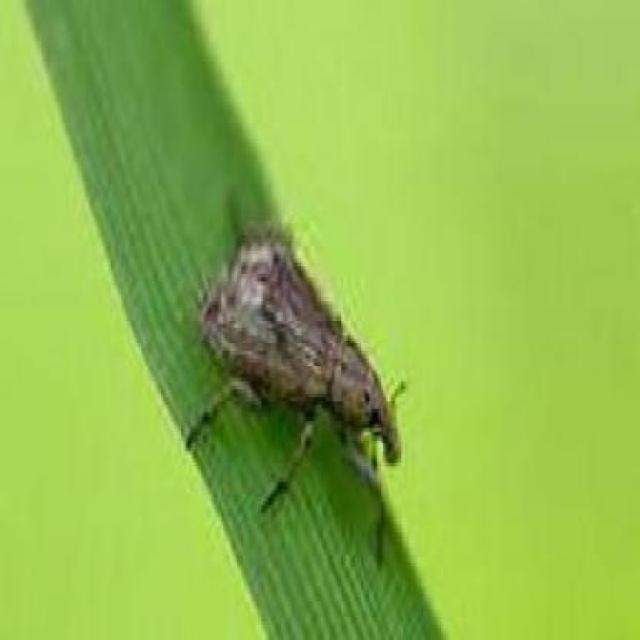rice-bug: (196, 222, 407, 496)
